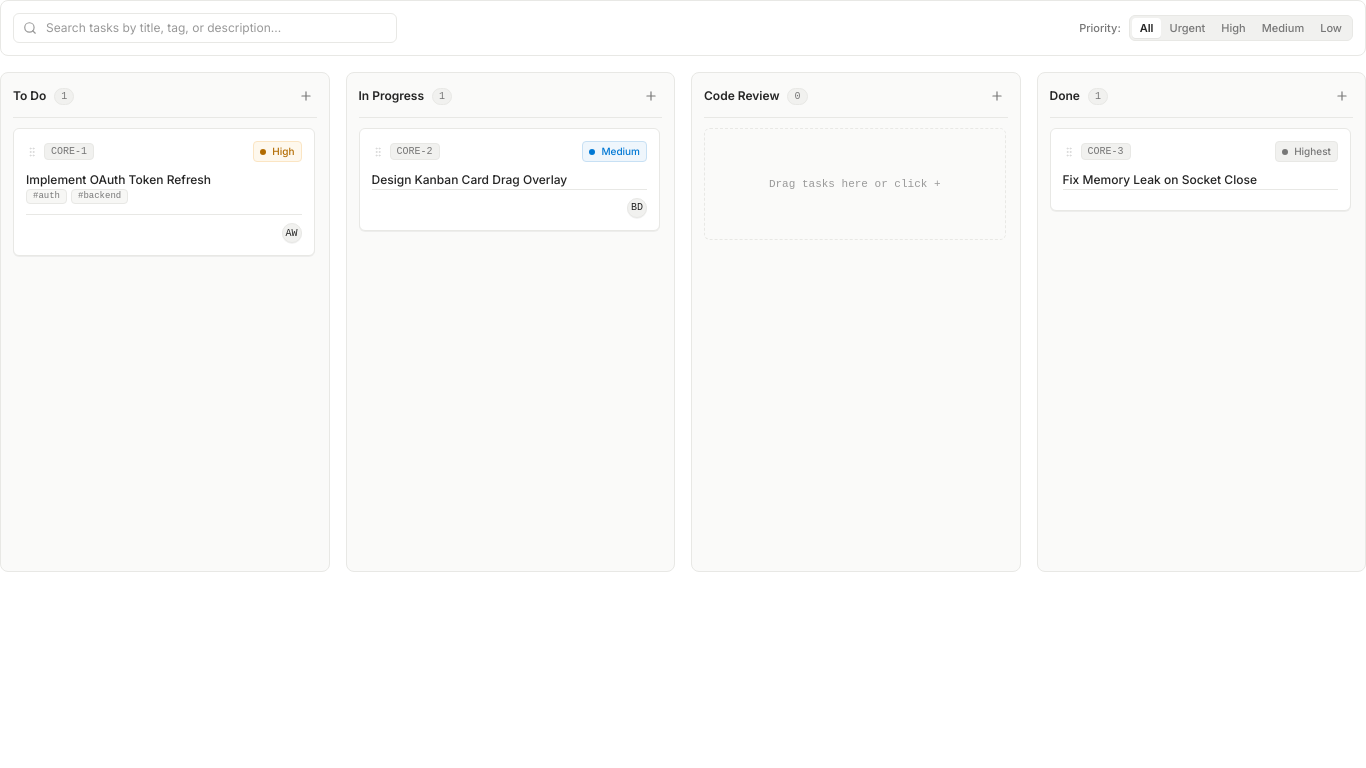
Test case: Core Application Features › KanbanBoard Component › filters tasks by search input keyword
Type "Memory Leak" into the field with placeholder "Search tasks by title, tag, or description..." at (205, 28), box 13,13 -> 397,43
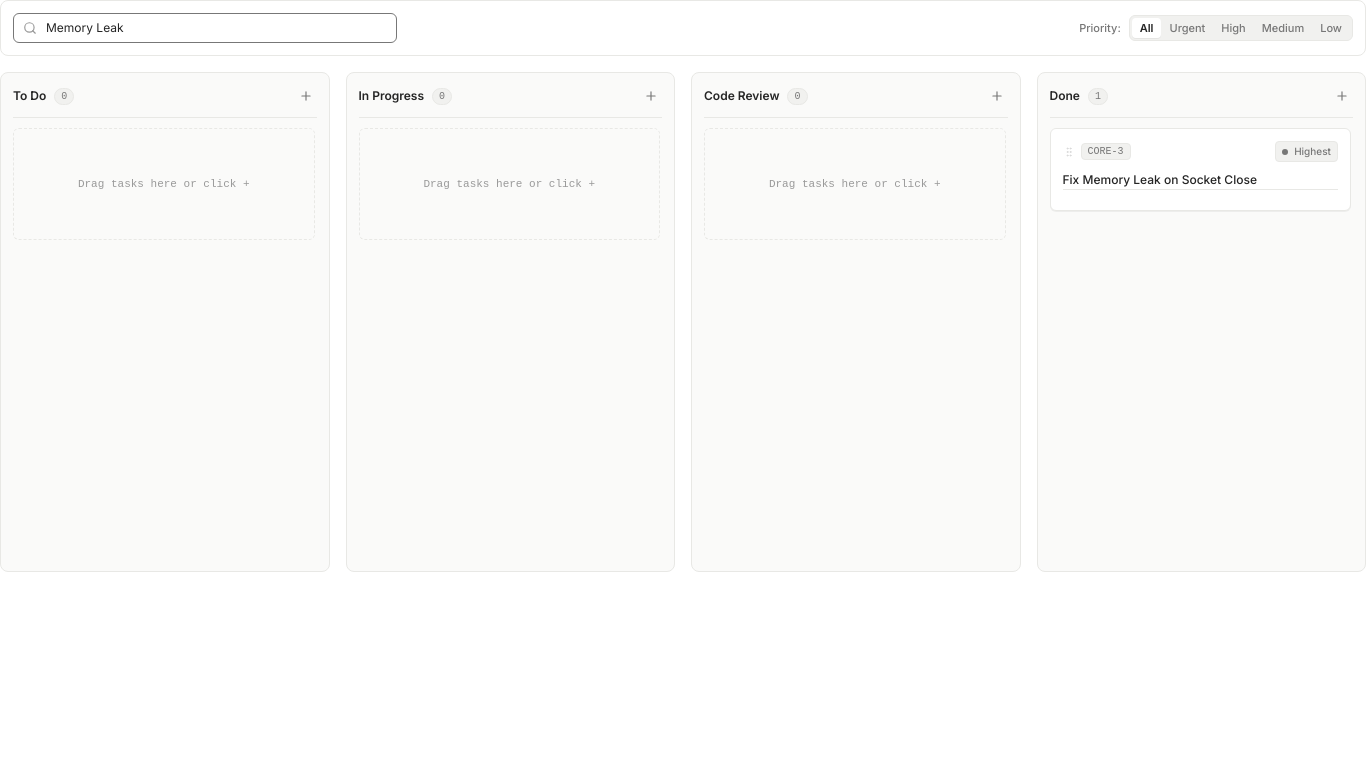
expect the heading "Fix Memory Leak on Socket Close" is shown: met, box 1062,172 -> 1257,187
expect the heading "Implement OAuth Token Refresh" is gone: met
